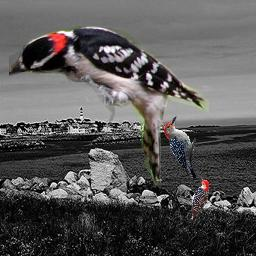Woodpecker: (9, 24, 211, 189), (162, 116, 196, 178), (184, 175, 209, 223)
